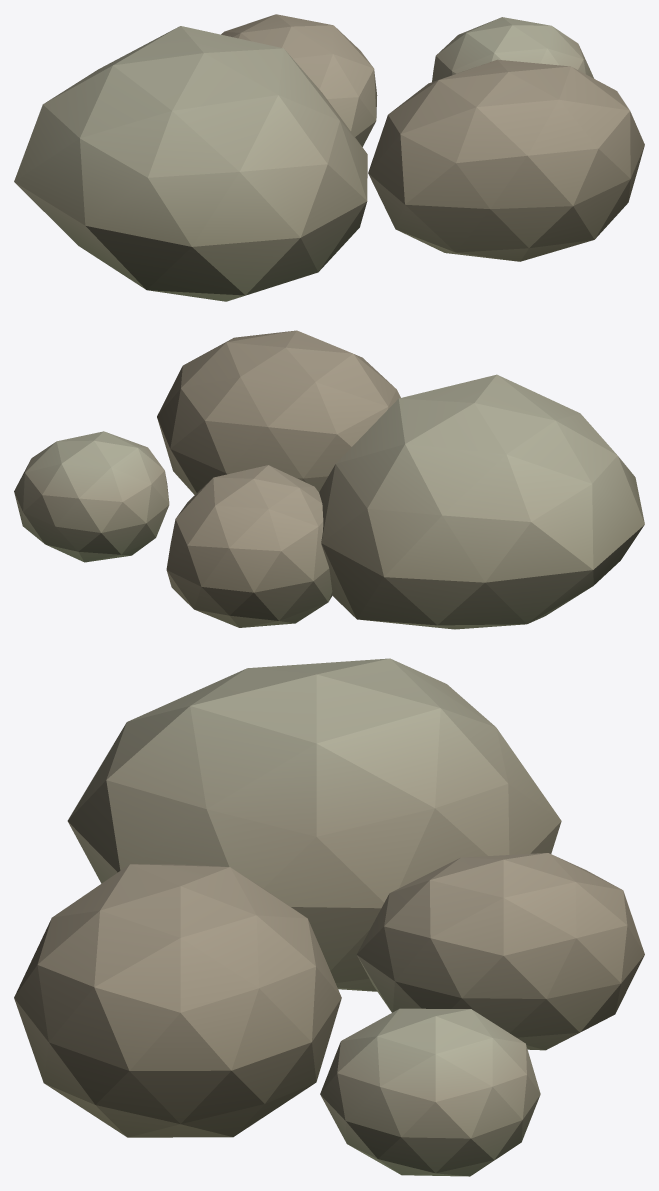
File: prop_rock_scatter_pebbles_01.glb
3 renders of one model, top to bottom at view 1: azimuth 30°, elevation 25°; view 2: azimuth 150°, elevation 25°; view 3: azimuth 270°, elevation 25°, orthographic. The views are drawn at different scales.
Parts seen in each view (by area): view 1: prop_rock_scatter_pebbles_01; view 2: prop_rock_scatter_pebbles_01; view 3: prop_rock_scatter_pebbles_01.
Part boxes in pixels (<box>): prop_rock_scatter_pebbles_01: <box>14,14,644,301</box>; prop_rock_scatter_pebbles_01: <box>14,330,644,629</box>; prop_rock_scatter_pebbles_01: <box>14,658,644,1176</box>.
Bounding box in the file's own units: 0.5096 × 0.1939 × 0.3711.
